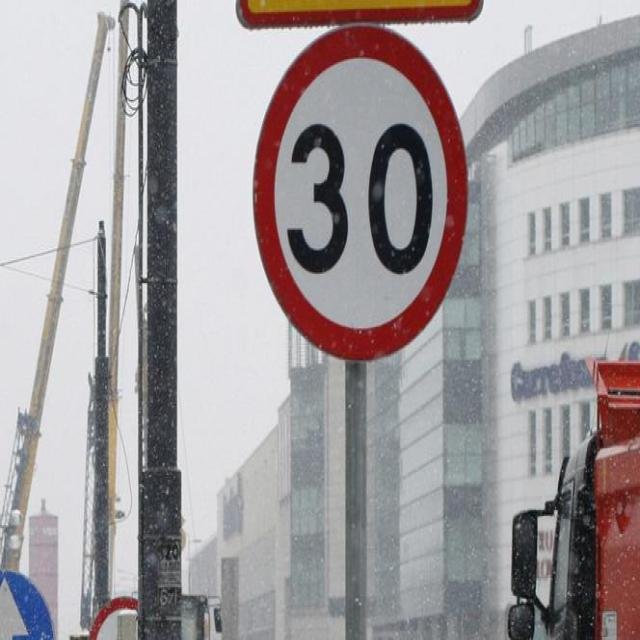Speed Limit -30-: (286, 120, 434, 278)
